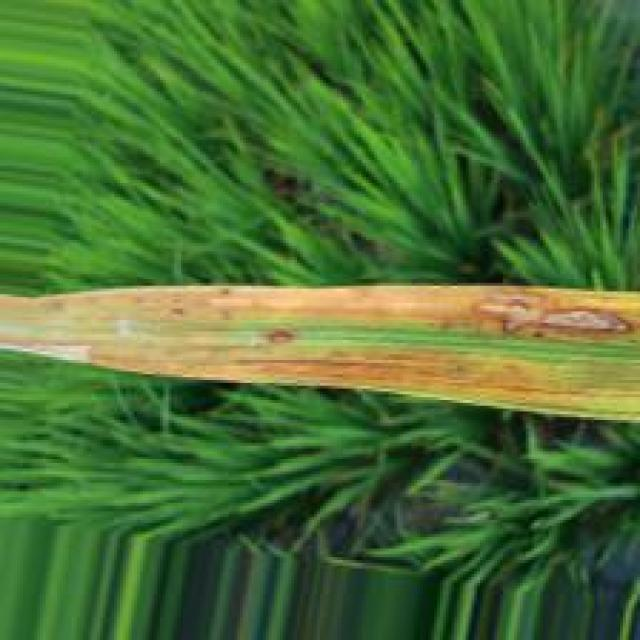Rice Tungro: (226, 353, 560, 401), (466, 285, 640, 345), (3, 339, 93, 360), (266, 328, 302, 347)
